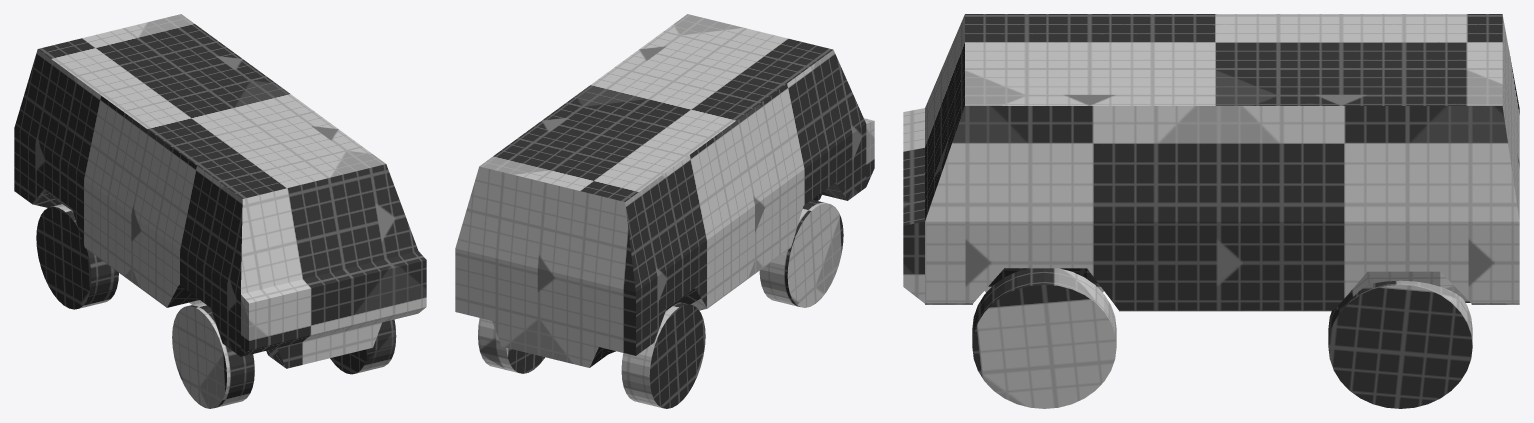
File: VolvoC303_Body.fbx
3 renders of one model, left to right at view 1: azimuth 30°, elevation 25°; view 2: azimuth 150°, elevation 25°; view 3: azimuth 270°, elevation 25°, orthographic. The views are drawn at different scales.
Parts seen in each view (by area): view 1: C303; view 2: C303; view 3: C303.
Boxes of the visible parts, <box> form: C303: <box>14,14,426,408</box>; C303: <box>455,14,874,408</box>; C303: <box>903,14,1519,408</box>.
Bounding box in the file's own units: 1.9 × 2.3 × 4.35.
Materials: 1 (1 with a texture image).
